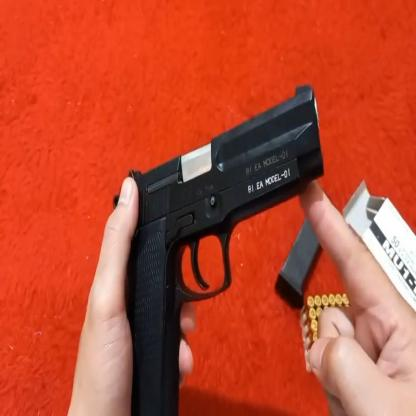handgun: (109, 72, 325, 416)
